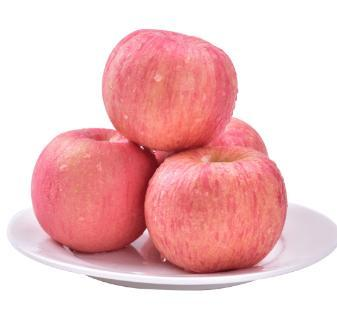apple: (144, 140, 287, 272), (101, 28, 239, 153), (29, 127, 156, 254)
